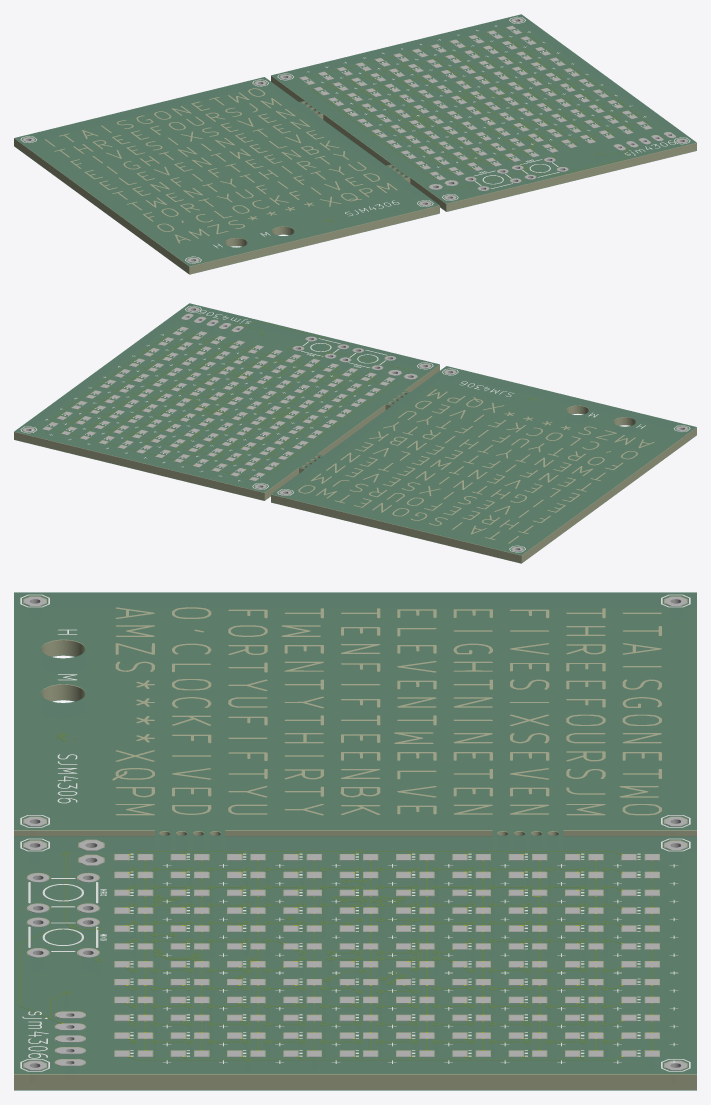
File: small-word-clock.glb
3 views of the same model, one above another, from view 1: azimuth 30°, elevation 25°; view 2: azimuth 150°, elevation 25°; view 3: azimuth 270°, elevation 25° (orthographic). The views are drawn at different scales.
Parts seen in each view (by area): view 1: =>[0:1:1:7], =>[0:1:1:9], =>[0:1:1:2], =>[0:1:1:5]; view 2: =>[0:1:1:7], =>[0:1:1:9], =>[0:1:1:2], =>[0:1:1:5]; view 3: =>[0:1:1:9], =>[0:1:1:7], =>[0:1:1:2], =>[0:1:1:5].
Boxes of the visible parts, x1,y1,x2,y2 form: =>[0:1:1:7]: [14, 14, 696, 274]; =>[0:1:1:9]: [14, 15, 696, 274]; =>[0:1:1:2]: [23, 18, 687, 262]; =>[0:1:1:5]: [20, 16, 690, 263]; =>[0:1:1:7]: [14, 303, 696, 563]; =>[0:1:1:9]: [14, 304, 696, 563]; =>[0:1:1:2]: [23, 307, 687, 551]; =>[0:1:1:5]: [20, 305, 690, 552]; =>[0:1:1:9]: [14, 593, 696, 1089]; =>[0:1:1:7]: [14, 592, 696, 1090]; =>[0:1:1:2]: [19, 597, 686, 1070]; =>[0:1:1:5]: [20, 594, 690, 1071].
Size of the model in its own units: 0.1029 by 0.00166 by 0.0616.
4 materials, 4 textured.
